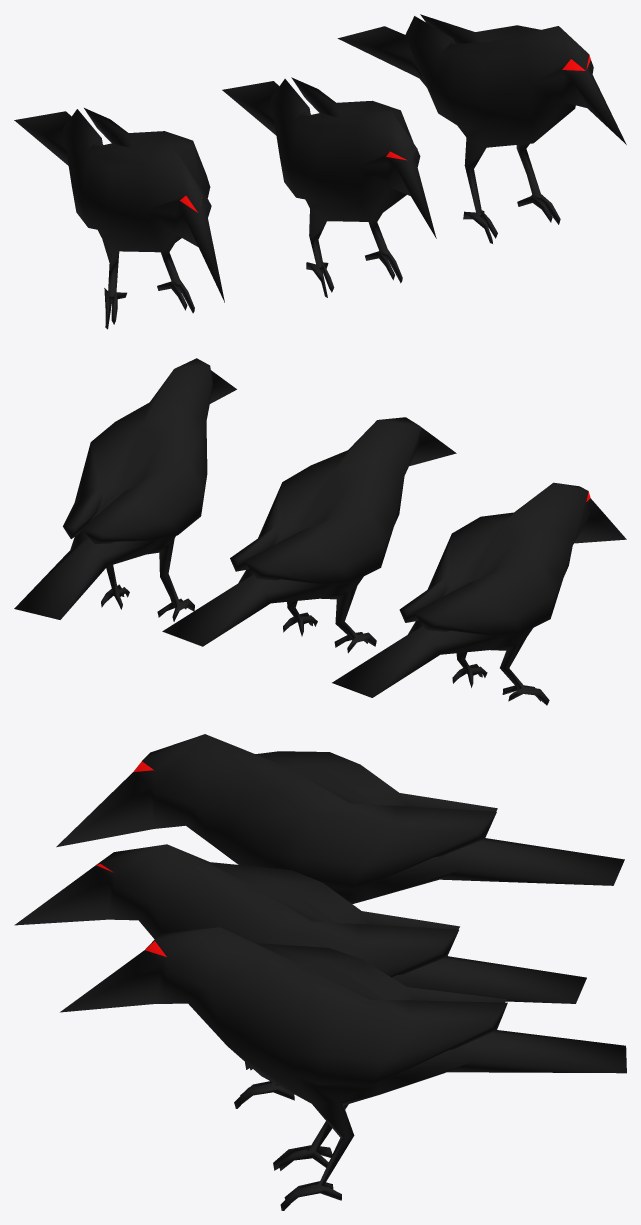
The model's file is HWN20_CrowTrio.gltf.
The picture shows the model from 3 angles, top to bottom: view 1: azimuth 30°, elevation 25°; view 2: azimuth 150°, elevation 25°; view 3: azimuth 270°, elevation 25°; orthographic projection. The views are drawn at different scales.
Visible parts, largest first — view 1: HWN20_CrowTrio_glb; view 2: HWN20_CrowTrio_glb; view 3: HWN20_CrowTrio_glb.
Boxes of the visible parts, x1,y1,x2,y2 form: HWN20_CrowTrio_glb: (14, 14, 626, 329); HWN20_CrowTrio_glb: (14, 358, 626, 705); HWN20_CrowTrio_glb: (14, 734, 626, 1210).
Size of what is drawn, in the model's own units: 0.8806 by 0.3937 by 0.8061.
2 materials, 2 textured.
